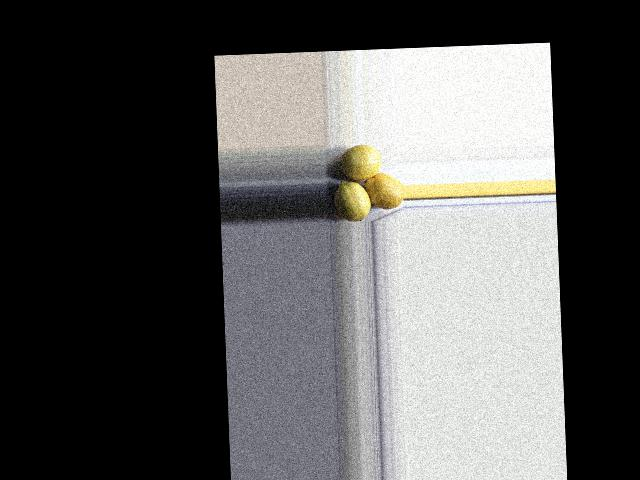lemon: (336, 143, 382, 178)
